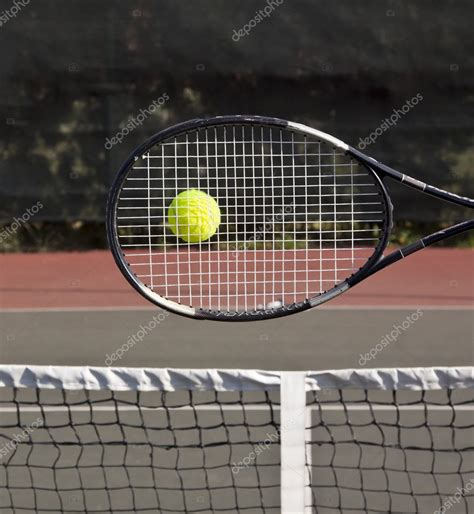tennis_ball: (167, 189, 221, 243)
